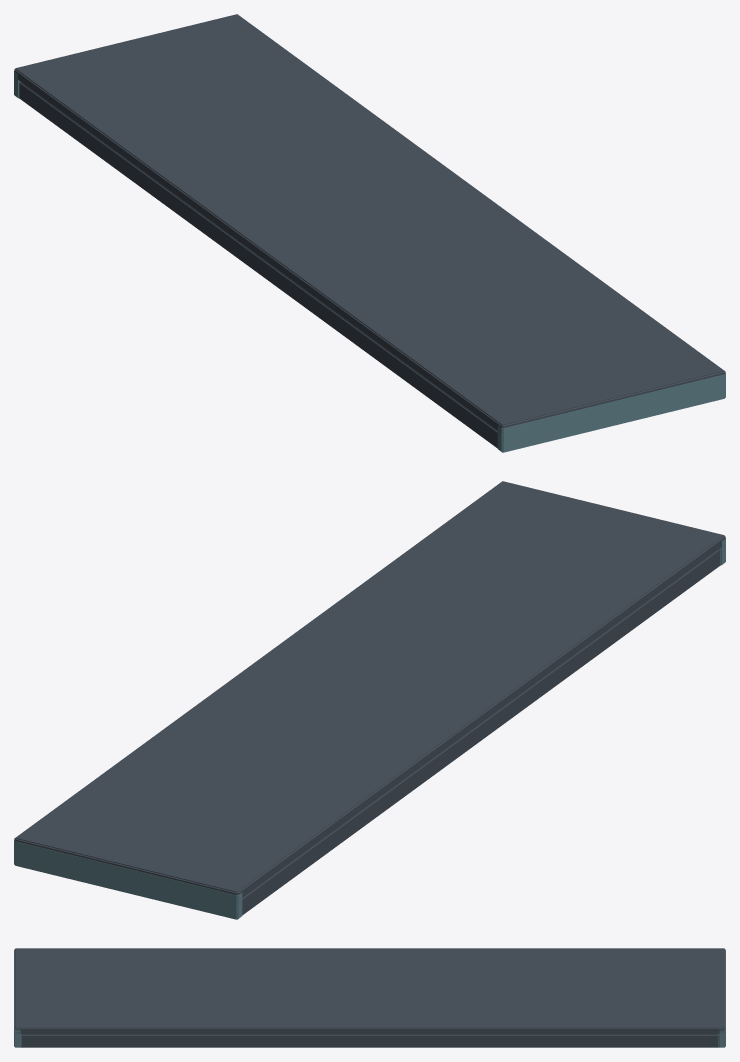
Rendered from SM_StationRoofPanel.glb.
The picture shows the model from 3 angles, top to bottom: view 1: azimuth 30°, elevation 25°; view 2: azimuth 150°, elevation 25°; view 3: azimuth 270°, elevation 25°; orthographic projection. The views are drawn at different scales.
Parts seen in each view (by area): view 1: VC_ENVKIT_Roof_WeatherSkin, VC_ENVKIT_Roof_TransverseRib, VC_ENVKIT_Roof_EdgeFascia; view 2: VC_ENVKIT_Roof_WeatherSkin, VC_ENVKIT_Roof_TransverseRib, VC_ENVKIT_Roof_EdgeFascia.001; view 3: VC_ENVKIT_Roof_WeatherSkin, VC_ENVKIT_Roof_TransverseRib.002, VC_ENVKIT_Roof_EdgeFascia, VC_ENVKIT_Roof_EdgeFascia.001.
Part boxes in pixels (bbox=[...]): VC_ENVKIT_Roof_WeatherSkin: bbox=[14, 14, 725, 431]; VC_ENVKIT_Roof_TransverseRib: bbox=[19, 82, 497, 448]; VC_ENVKIT_Roof_EdgeFascia: bbox=[497, 373, 725, 452]; VC_ENVKIT_Roof_WeatherSkin: bbox=[14, 481, 725, 897]; VC_ENVKIT_Roof_TransverseRib: bbox=[242, 549, 720, 915]; VC_ENVKIT_Roof_EdgeFascia.001: bbox=[14, 840, 242, 919]; VC_ENVKIT_Roof_WeatherSkin: bbox=[14, 948, 725, 1034]; VC_ENVKIT_Roof_TransverseRib.002: bbox=[20, 1034, 719, 1047]; VC_ENVKIT_Roof_EdgeFascia: bbox=[14, 950, 21, 1047]; VC_ENVKIT_Roof_EdgeFascia.001: bbox=[718, 950, 725, 1047].
Size of the model in its own units: 2.99 by 0.36 by 11.3.
